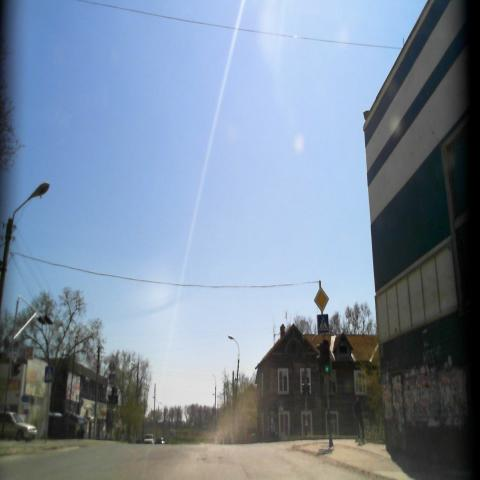2_1: (313, 286, 329, 313)
5_19_1: (318, 314, 329, 333), (44, 364, 54, 381)
